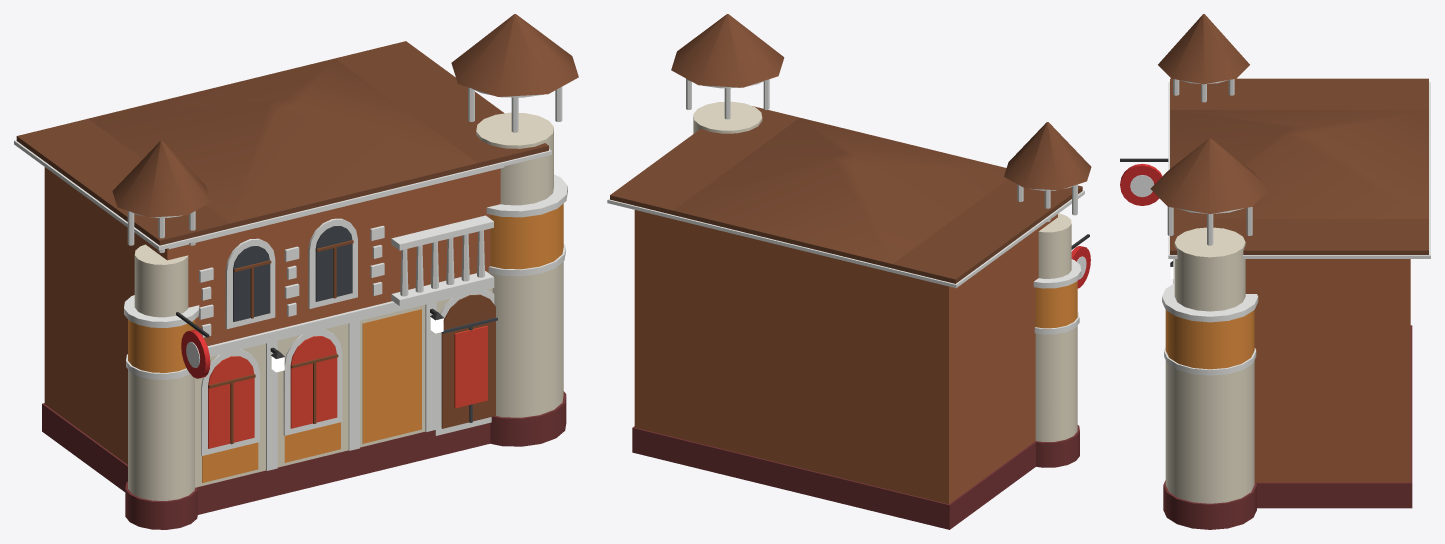
3 views of the same model, side by side, from view 1: azimuth 30°, elevation 25°; view 2: azimuth 150°, elevation 25°; view 3: azimuth 270°, elevation 25° (orthographic). The views are drawn at different scales.
Visible parts, largest first — view 1: base; view 2: base; view 3: base.
Boxes of the visible parts, x1,y1,x2,y2 form: base: (14, 14, 578, 529); base: (607, 14, 1091, 529); base: (1120, 14, 1430, 529).
Bounding box in the file's own units: 7.77 × 6.65 × 5.04.
